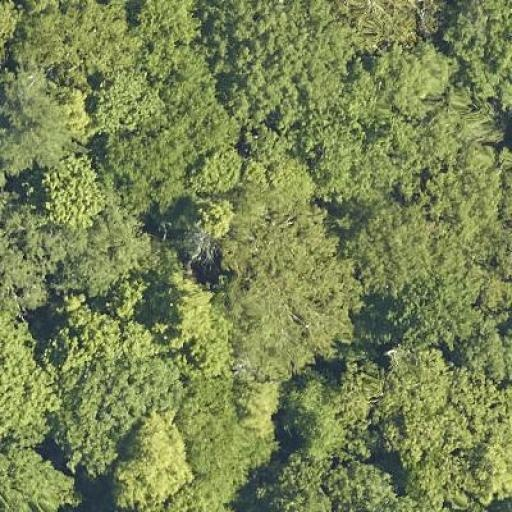tree-top: (224, 224, 360, 370), (92, 54, 236, 180), (52, 315, 166, 474), (214, 2, 333, 122), (326, 79, 434, 196), (10, 1, 143, 85), (380, 344, 467, 457), (347, 199, 439, 296), (260, 451, 400, 512), (0, 317, 60, 450), (112, 409, 190, 509), (278, 368, 360, 462), (0, 196, 59, 324), (2, 86, 85, 174), (66, 220, 156, 294), (426, 146, 502, 232), (451, 0, 512, 106), (36, 152, 112, 235), (190, 382, 261, 470), (322, 0, 442, 50), (386, 35, 460, 113), (164, 275, 230, 354), (0, 445, 76, 512), (249, 146, 322, 214), (248, 459, 336, 512), (475, 386, 512, 508), (166, 199, 239, 258), (136, 1, 204, 50), (465, 328, 512, 392), (0, 0, 21, 53)
